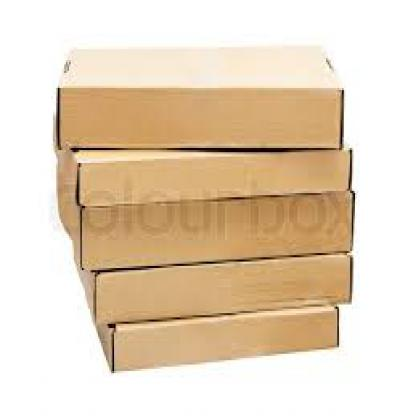CARDBOARD: (55, 43, 344, 152), (51, 114, 352, 208), (53, 176, 353, 264), (72, 240, 352, 324), (85, 302, 337, 362)
